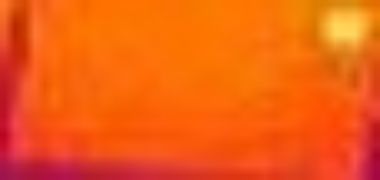Hotspot: (320, 3, 379, 46)
